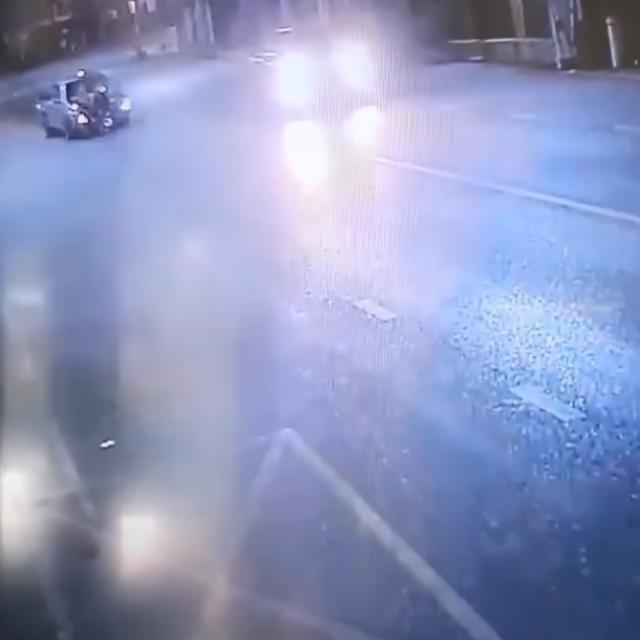accident: (37, 70, 133, 142)
